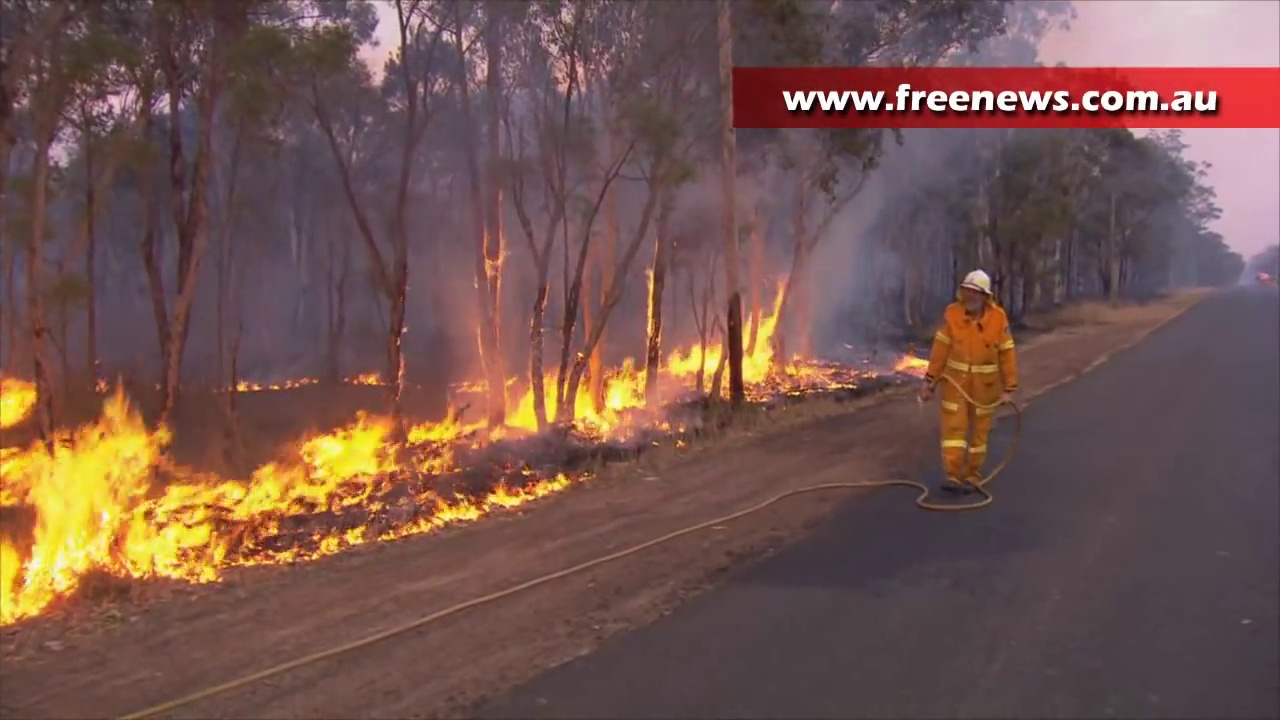fire: (1, 411, 394, 624), (393, 472, 580, 535), (666, 289, 780, 386), (507, 366, 644, 435), (406, 404, 470, 449), (1, 378, 35, 431), (641, 269, 653, 338), (902, 354, 929, 377), (353, 370, 385, 387)
